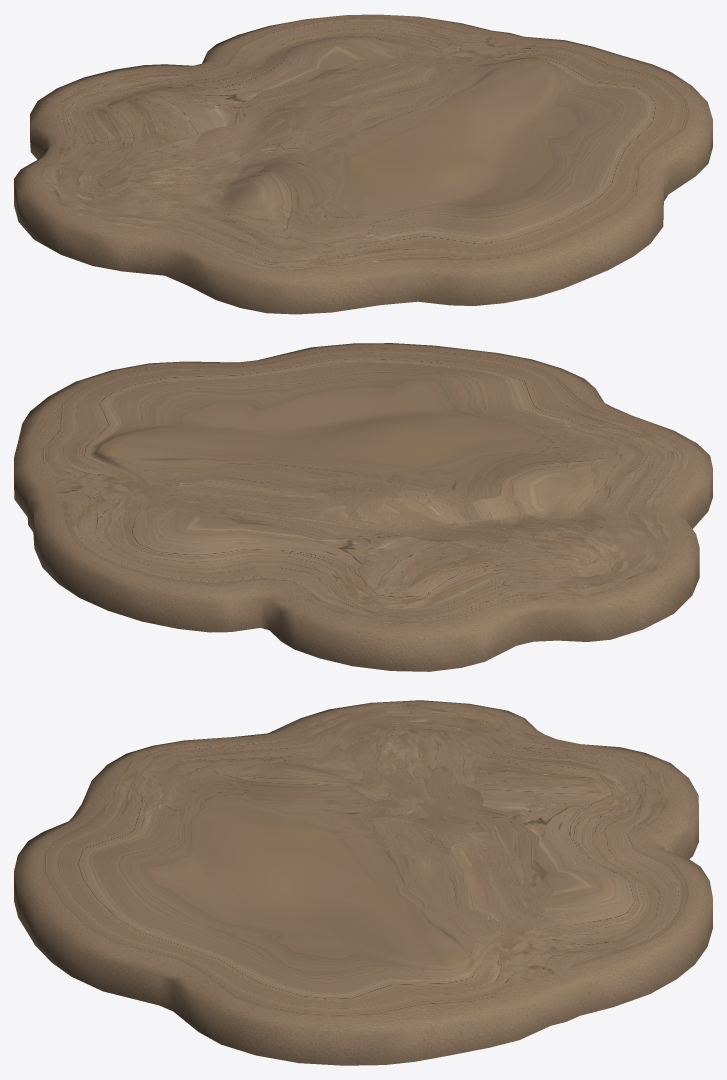
The model's file is saltmine_floor_light_cracks_02.dae.
The picture shows the model from 3 angles, top to bottom: view 1: azimuth 30°, elevation 25°; view 2: azimuth 150°, elevation 25°; view 3: azimuth 270°, elevation 25°; orthographic projection. The views are drawn at different scales.
Visible parts, largest first — view 1: floor_02_light_cracked; view 2: floor_02_light_cracked; view 3: floor_02_light_cracked.
Boxes of the visible parts, bbox=[...] form: floor_02_light_cracked: bbox=[14, 14, 712, 314]; floor_02_light_cracked: bbox=[14, 343, 712, 671]; floor_02_light_cracked: bbox=[14, 700, 712, 1065].
Size of the model in its own units: 5.9 by 0.4458 by 5.19.
